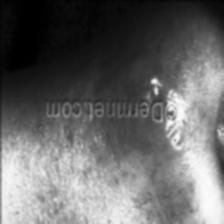Toxin: (96, 52, 170, 100)
